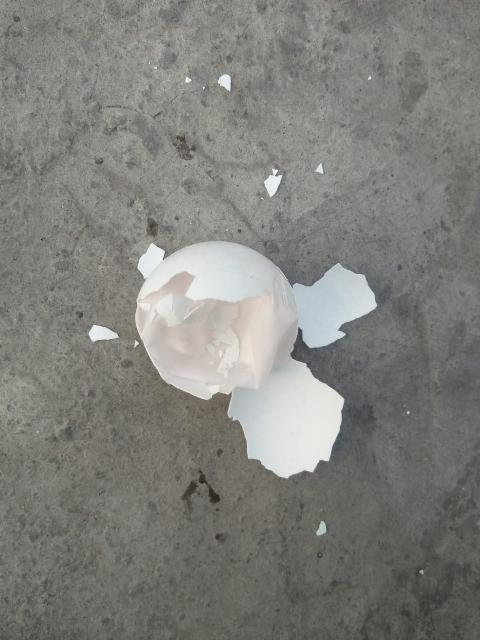Roto: (134, 239, 299, 400), (226, 356, 345, 479)
